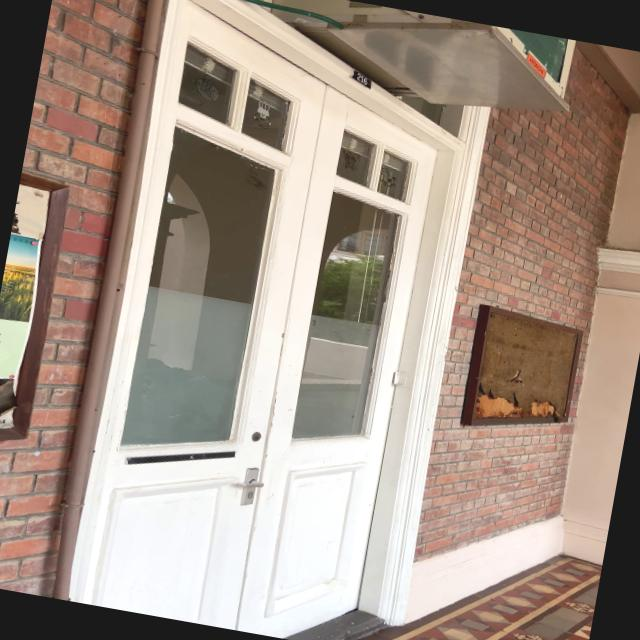room216: (346, 66, 374, 89)
